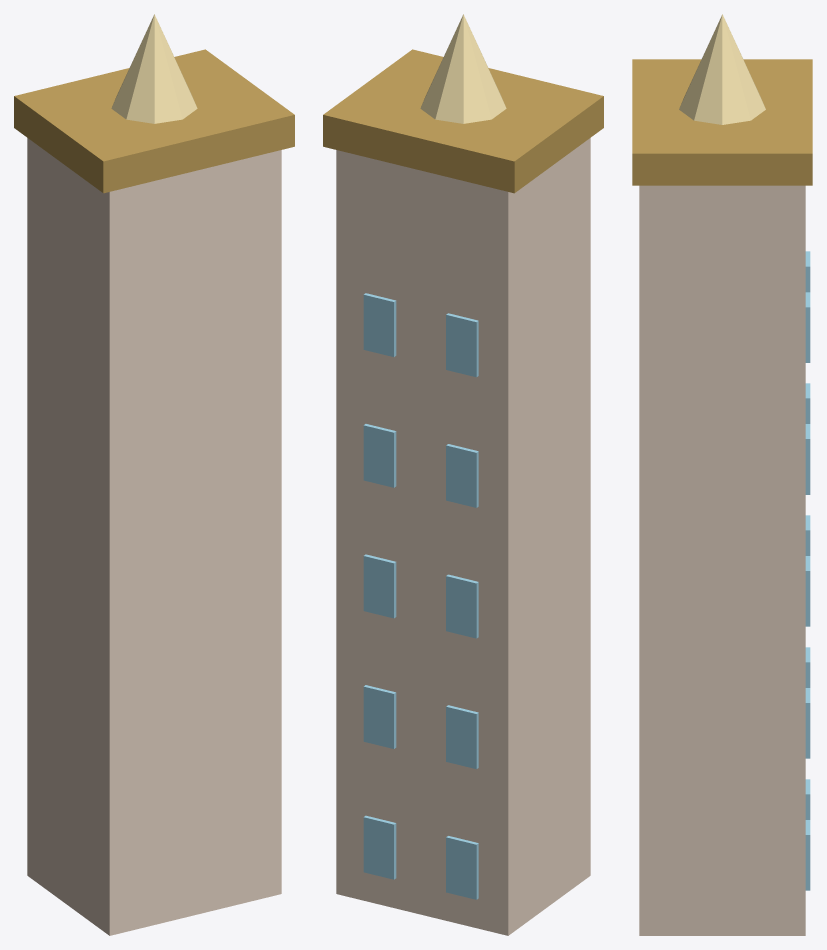
File: stage_4_skyscraper.glb
3 renders of one model, left to right at view 1: azimuth 30°, elevation 25°; view 2: azimuth 150°, elevation 25°; view 3: azimuth 270°, elevation 25°, orthographic.
Parts seen in each view (by area): view 1: BUILDING_BODY, ROOFTOP, ROOF_SPIRE; view 2: BUILDING_BODY, ROOFTOP, ROOF_SPIRE, WINDOW_F2_1, WINDOW_F0_1, WINDOW_F1_1, WINDOW_F4_1, WINDOW_F3_1, WINDOW_F2_-1, WINDOW_F4_-1, WINDOW_F0_-1, WINDOW_F1_-1 (+1 smaller); view 3: BUILDING_BODY, ROOFTOP, ROOF_SPIRE, WINDOW_F0_1, WINDOW_F1_1, WINDOW_F2_1, WINDOW_F3_1, WINDOW_F4_1.
Part boxes in pixels (x1,y1,x2,y2): BUILDING_BODY: (27, 138, 281, 935); ROOFTOP: (14, 49, 294, 193); ROOF_SPIRE: (111, 14, 197, 123); BUILDING_BODY: (336, 138, 590, 935); ROOFTOP: (323, 49, 603, 193); ROOF_SPIRE: (420, 14, 506, 123); WINDOW_F2_1: (363, 554, 396, 618); WINDOW_F0_1: (363, 815, 396, 879); WINDOW_F1_1: (363, 685, 396, 748); WINDOW_F4_1: (363, 293, 396, 356); WINDOW_F3_1: (363, 424, 396, 487); WINDOW_F2_-1: (446, 574, 478, 638); WINDOW_F4_-1: (446, 313, 478, 377); WINDOW_F0_-1: (446, 836, 478, 899); WINDOW_F1_-1: (446, 705, 478, 769); BUILDING_BODY: (639, 185, 805, 935); ROOFTOP: (632, 59, 812, 185); ROOF_SPIRE: (679, 14, 765, 124); WINDOW_F0_1: (805, 820, 810, 890); WINDOW_F1_1: (805, 688, 810, 758); WINDOW_F2_1: (805, 556, 810, 626); WINDOW_F3_1: (805, 424, 810, 494); WINDOW_F4_1: (805, 292, 810, 362).
Bounding box in the file's own units: 0.69 × 3 × 0.558.
